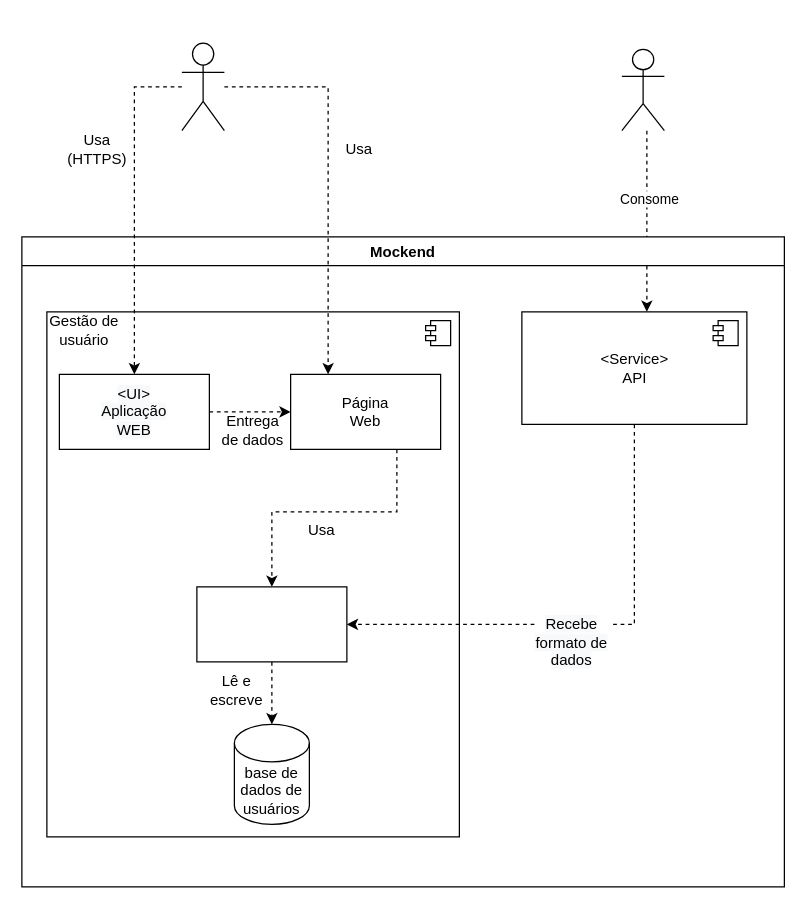
This 806x909 diagram has some shape labels left out. Here are the shapes that lost their labels. From the top down, the centre of each, then its label:
point (202, 86): Cliente
point (642, 89): Sistema externo
point (271, 624): API
